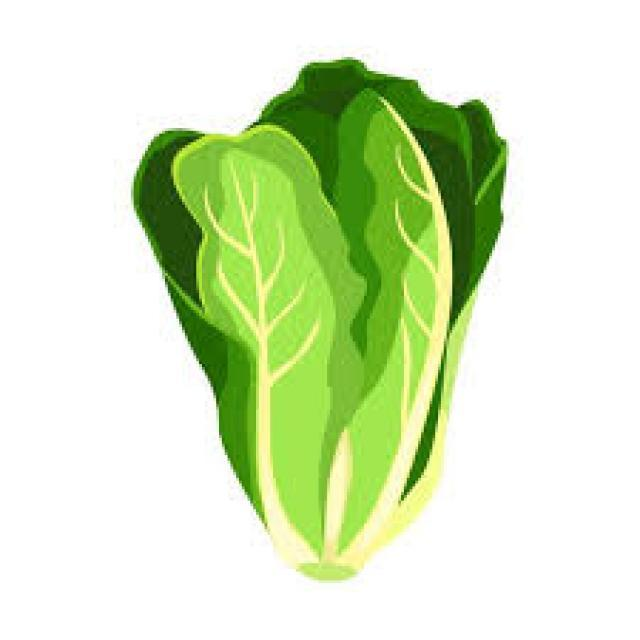Lettuce: (130, 54, 507, 580)
